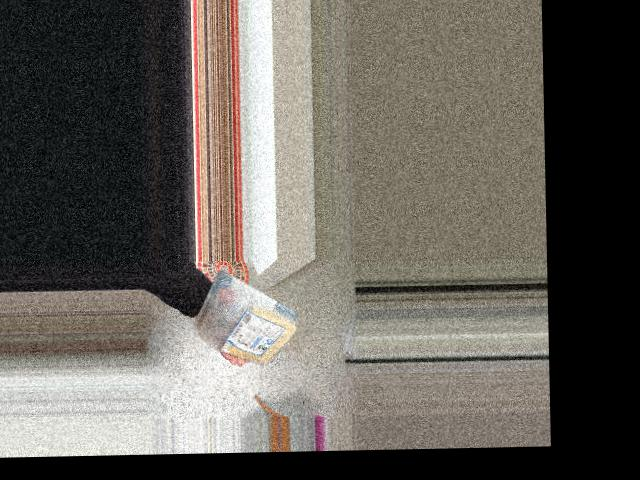cheese: (188, 262, 304, 374)
